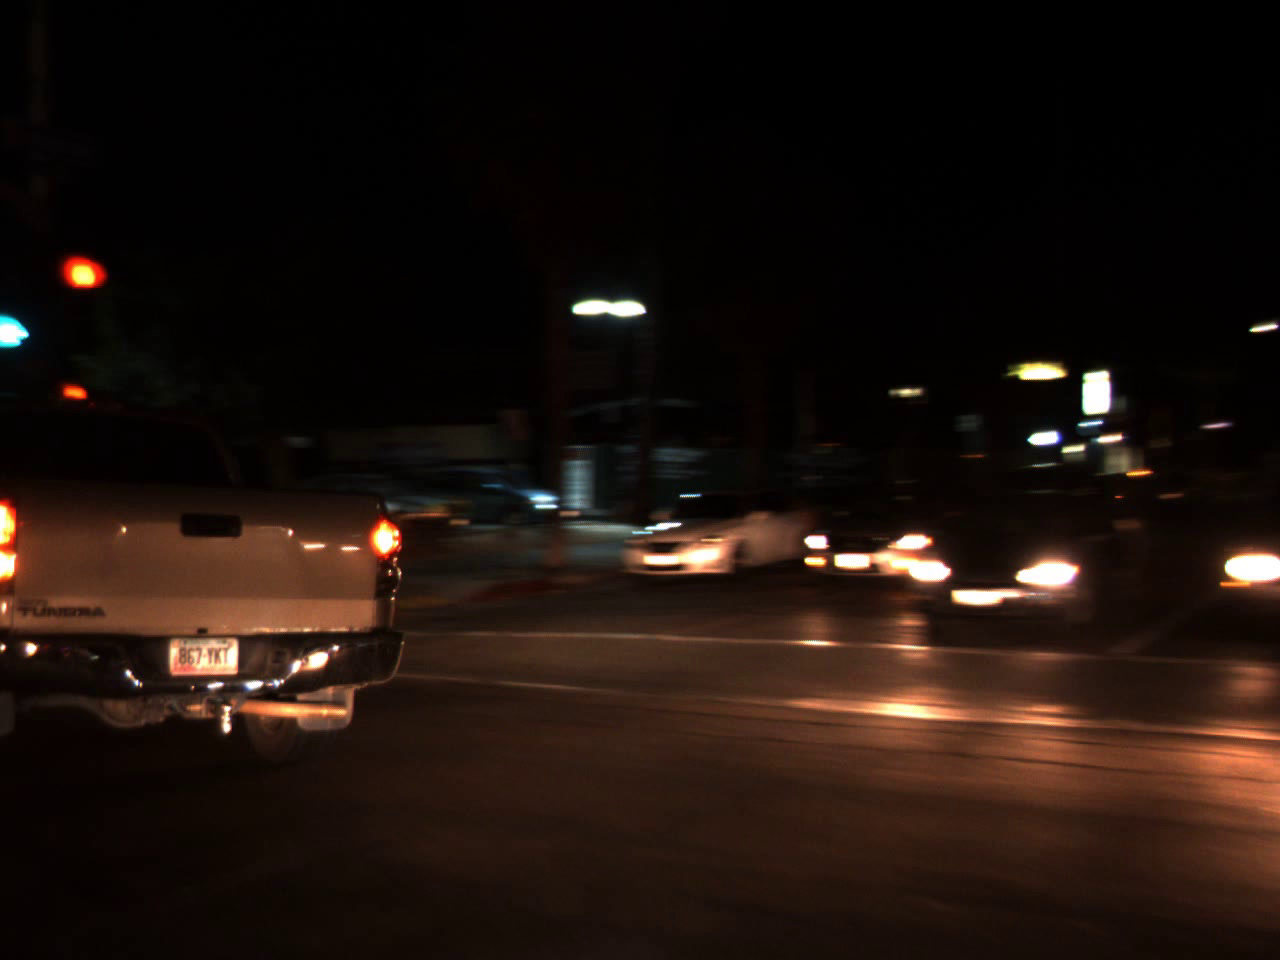go: (0, 270, 39, 366)
